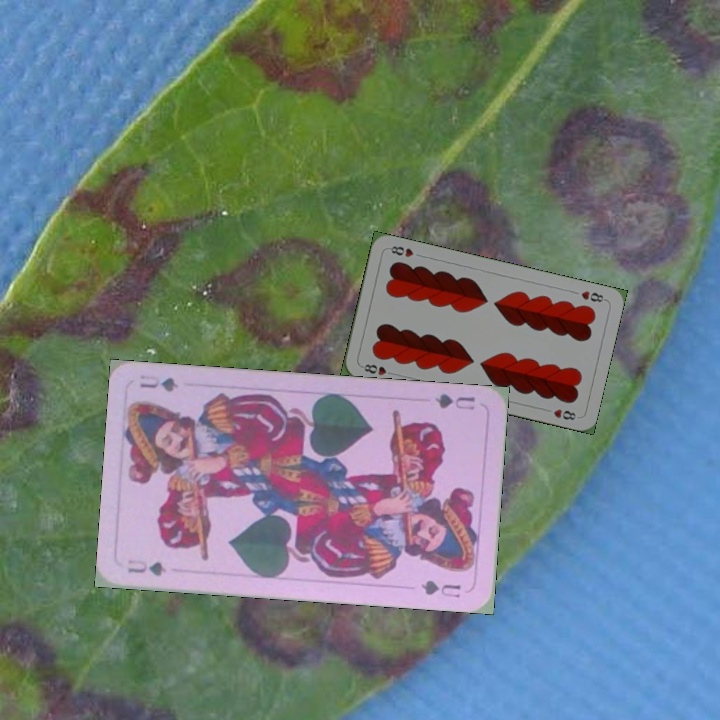GU: (123, 555, 169, 579), (431, 389, 477, 412)
H8: (357, 360, 397, 378), (577, 287, 609, 305)
